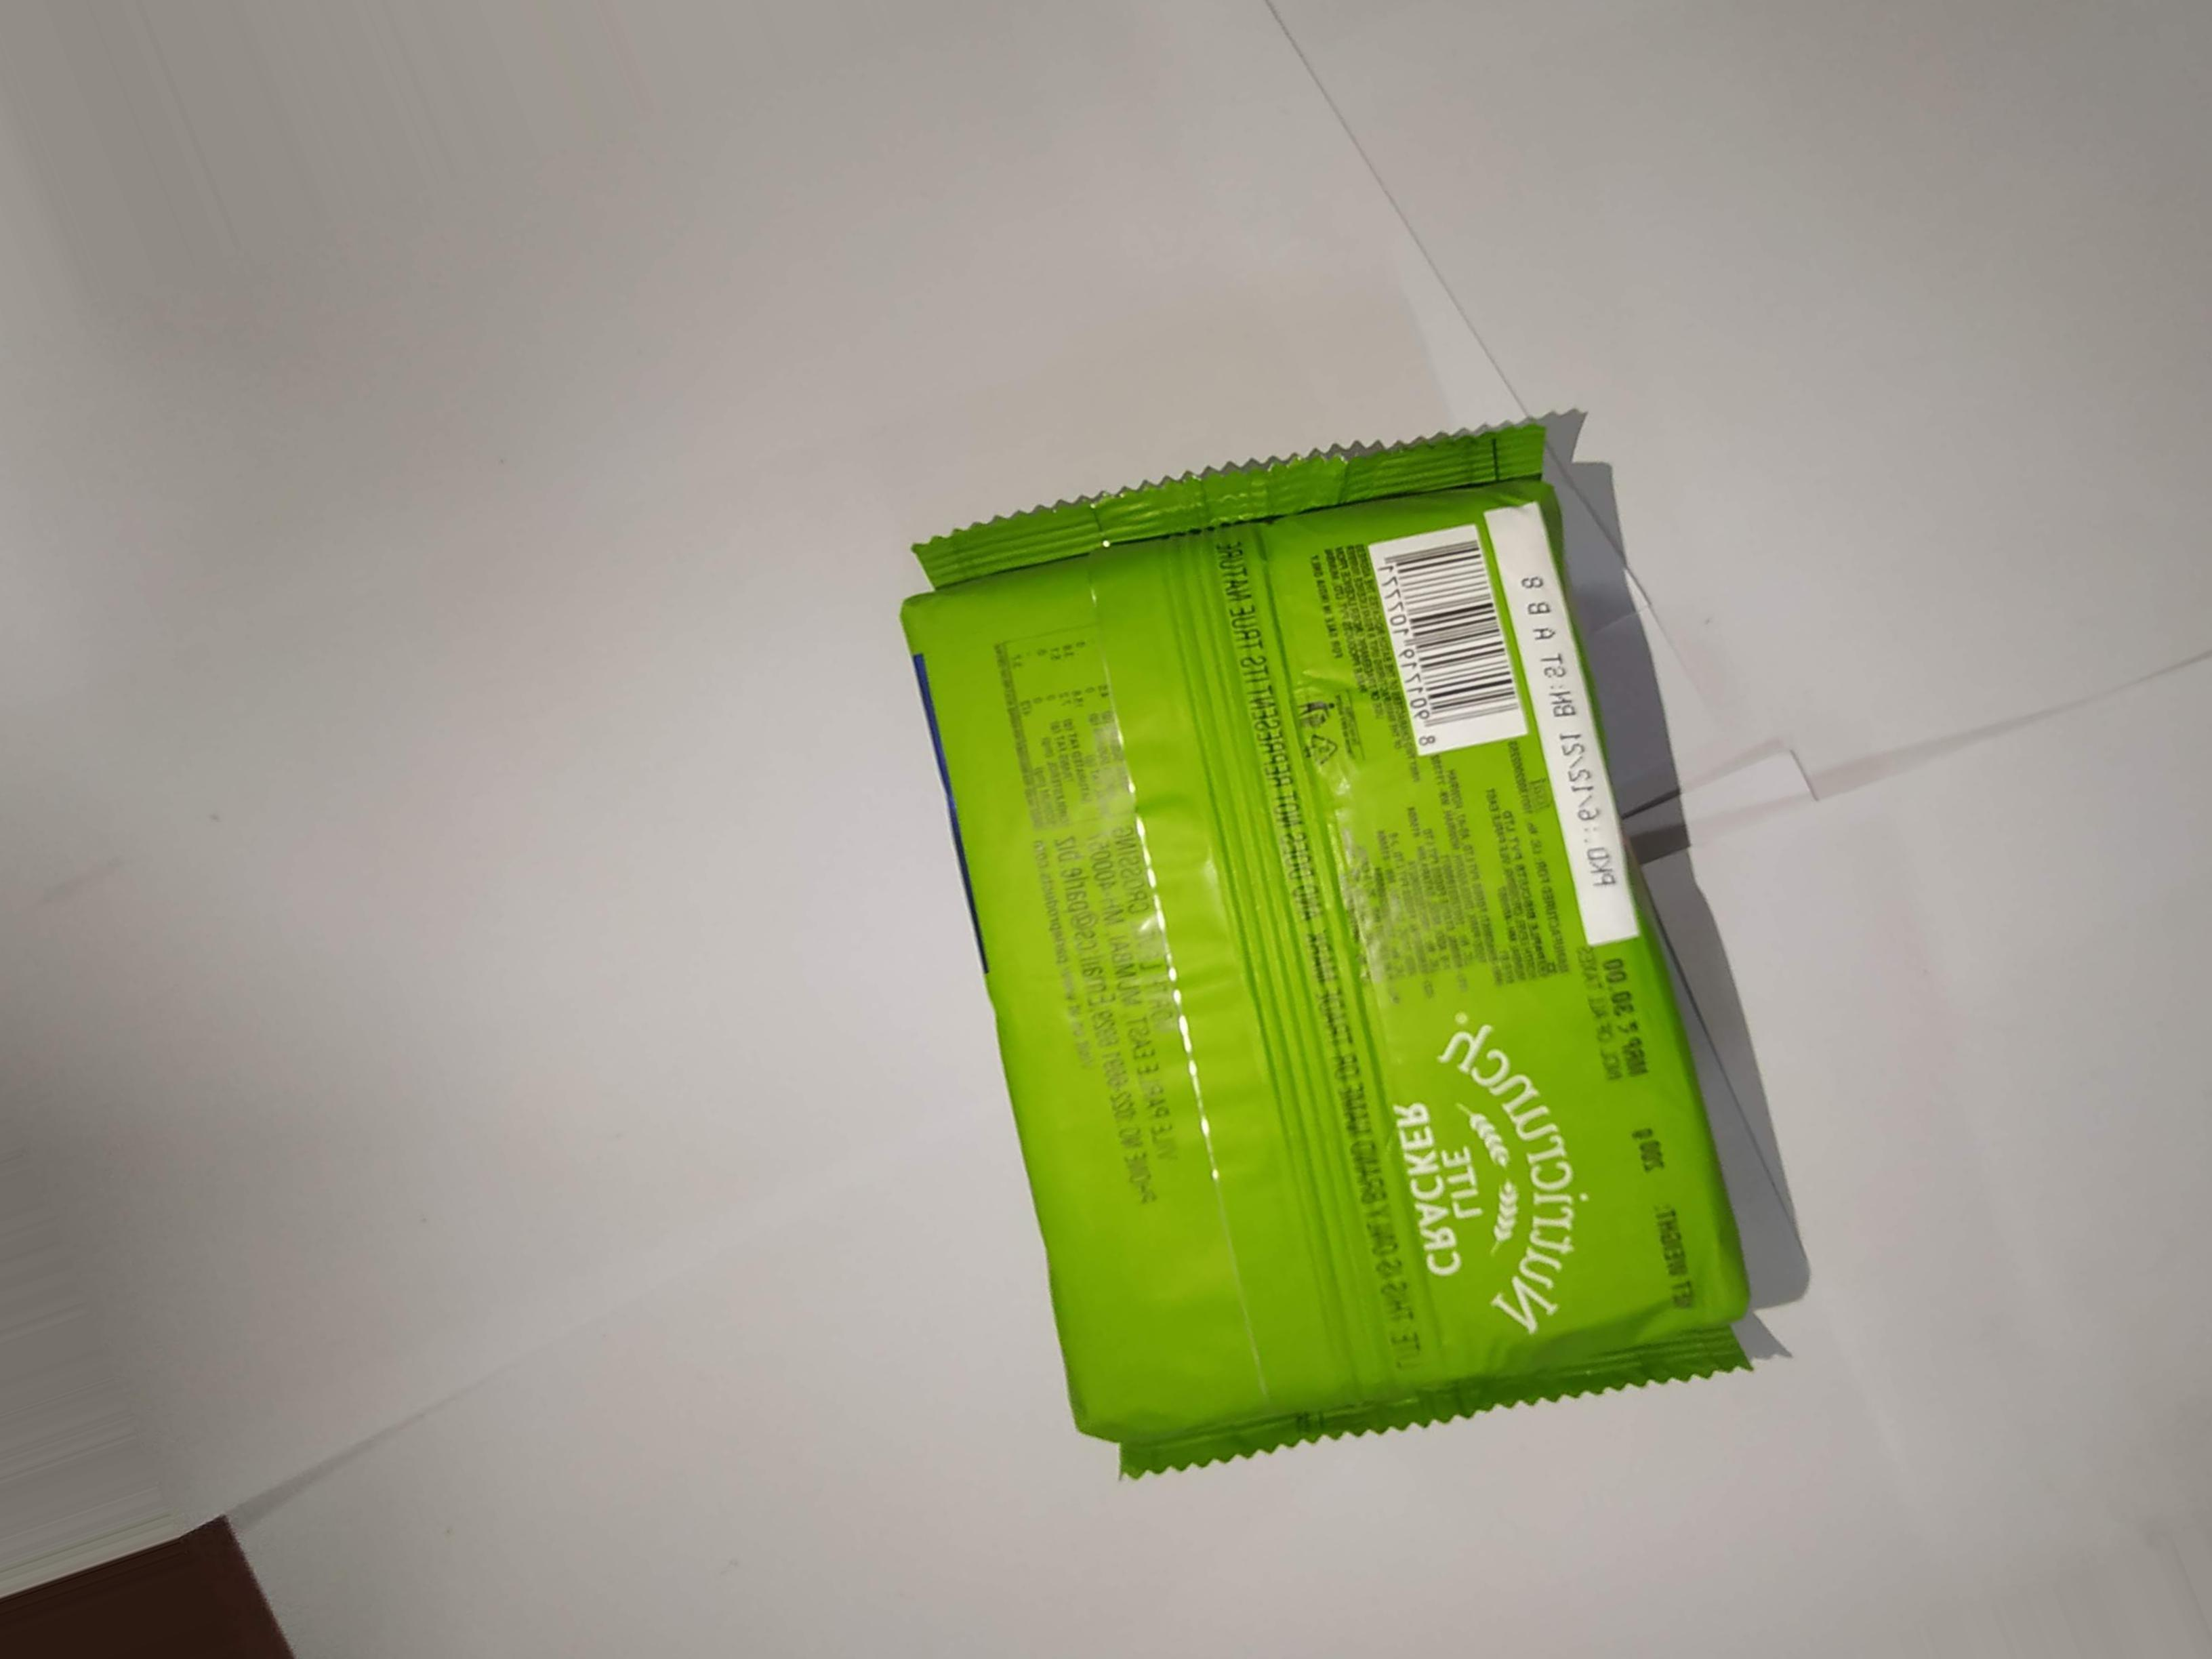Bar_code: (1357, 505, 1547, 772)
Item: (813, 331, 1949, 1495)
